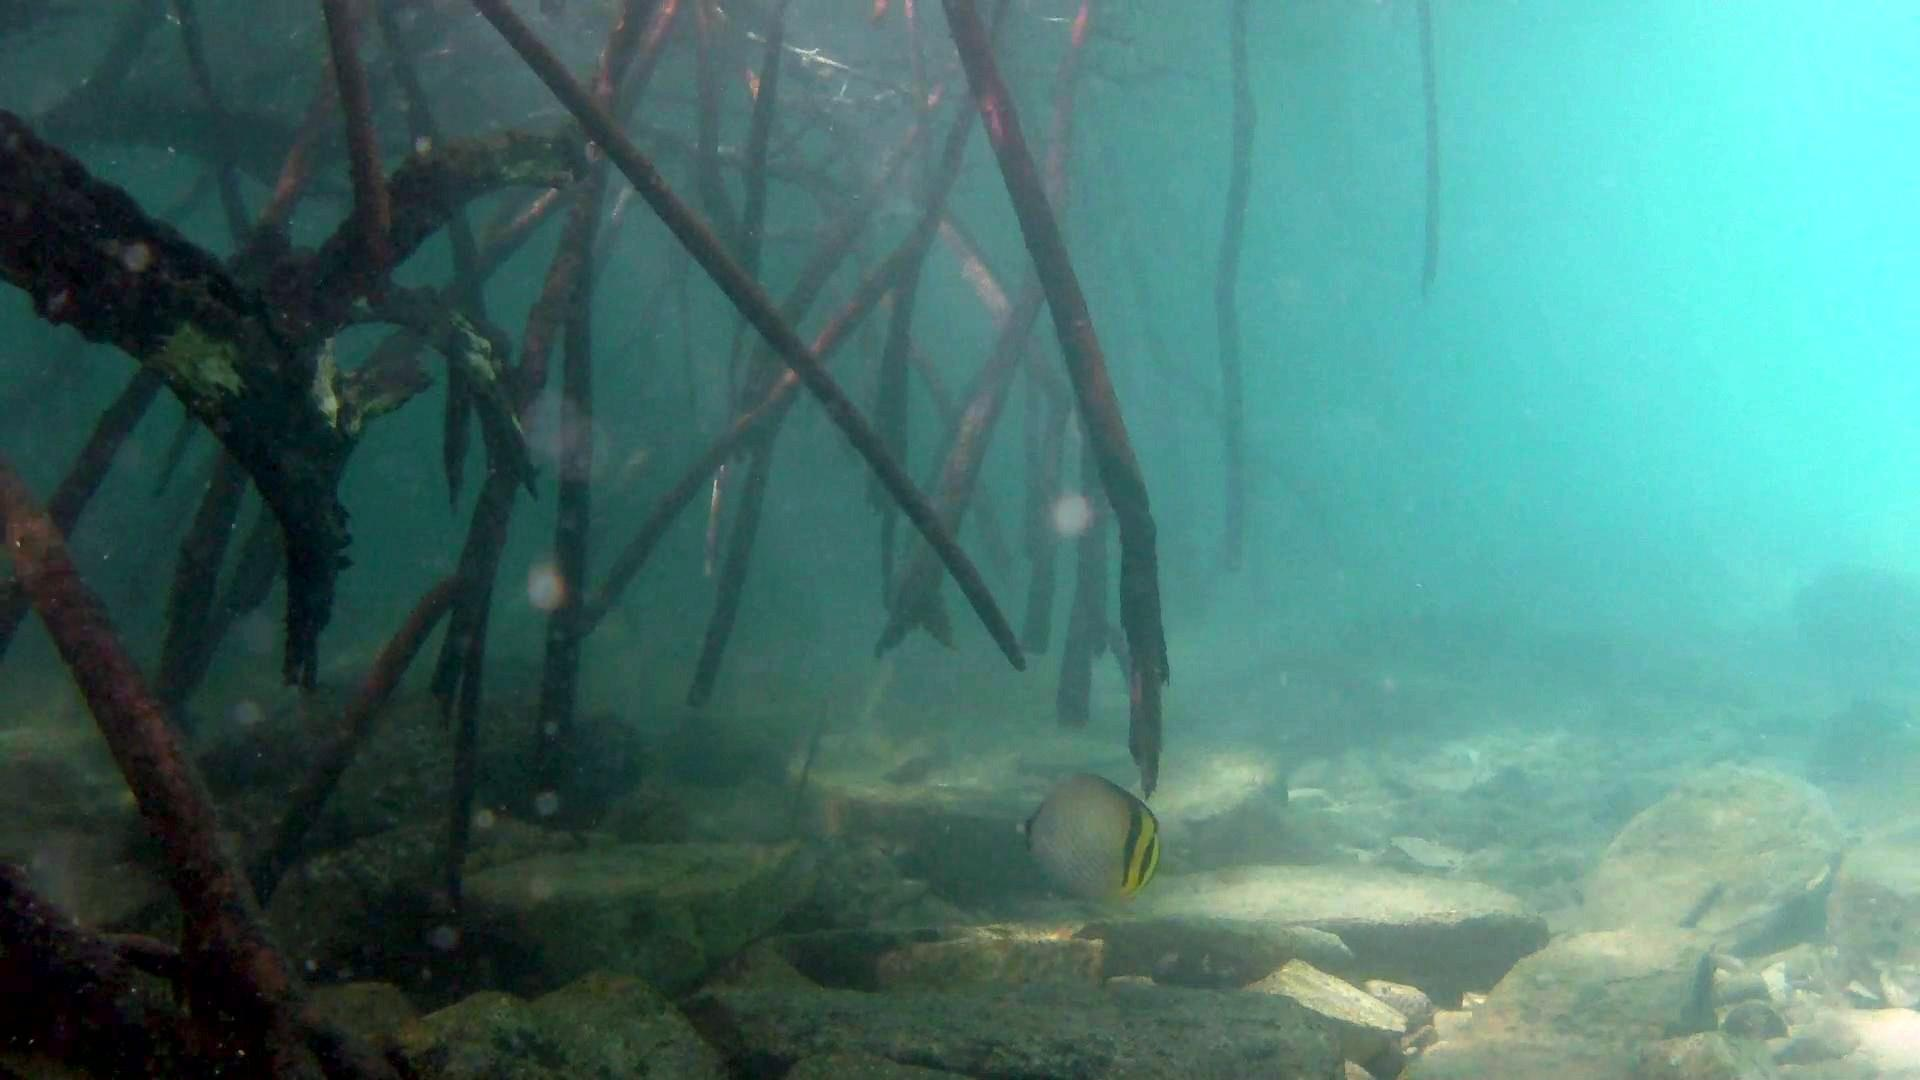chaetodon vagabundus: (1013, 770, 1163, 903)
